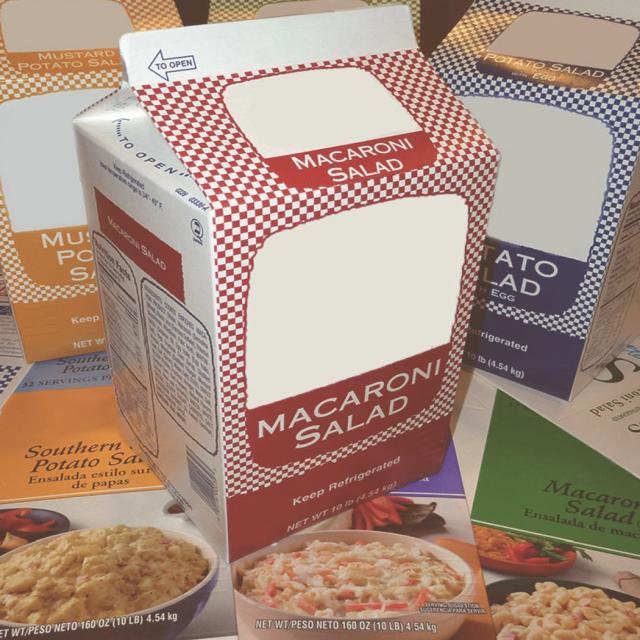Carton: (59, 17, 492, 560)
